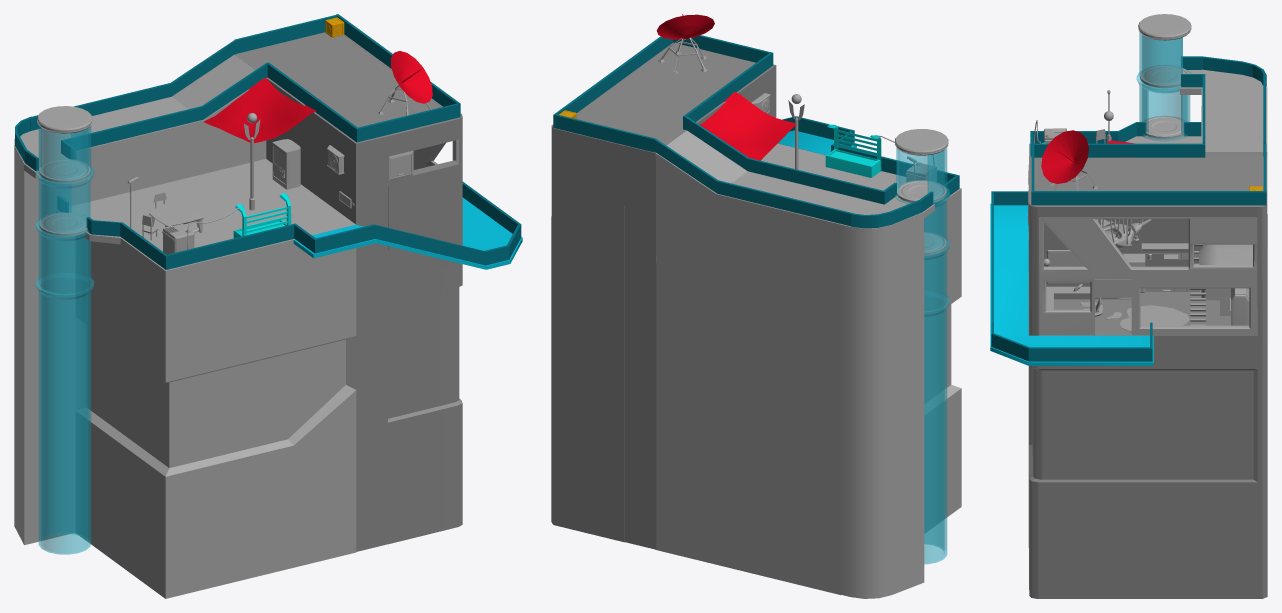
File: ScifiApartment.fbx
3 renders of one model, left to right at view 1: azimuth 30°, elevation 25°; view 2: azimuth 150°, elevation 25°; view 3: azimuth 270°, elevation 25°, orthographic. The views are drawn at different scales.
Parts seen in each view (by area): view 1: BackofmainBuilding, FrontofMainBuilding, teleporter_column1, Tarp_Thingy, workshop_walkway1, pCube88, pCube94, pCube187, pCube87, pCube93, pCube91, satellite_dish1 (+11 smaller); view 2: BackofmainBuilding, FrontofMainBuilding, teleporter_column1, Tarp_Thingy, pCube88, pCube187, pCube90, pCube92, pCube91, pCylinder7, satellite_dish1, pCube93 (+6 smaller); view 3: FrontofMainBuilding, pCube145, workshop_walkway1, BackofmainBuilding, teleporter_column1, pCube90, pCube91, satellite_dish1, pCube98, pCylinder7, pPlane1, pCube149 (+15 smaller).
Part boxes in pixels (bbox=[...]): BackofmainBuilding: bbox=[14, 55, 356, 598]; FrontofMainBuilding: bbox=[234, 32, 462, 551]; teleporter_column1: bbox=[35, 125, 94, 554]; Tarp_Thingy: bbox=[203, 77, 316, 143]; workshop_walkway1: bbox=[293, 197, 522, 269]; pCube88: bbox=[61, 63, 267, 153]; pCube94: bbox=[313, 224, 485, 265]; pCube187: bbox=[30, 40, 235, 130]; pCube87: bbox=[167, 223, 296, 269]; pCube93: bbox=[358, 103, 458, 141]; pCube91: bbox=[266, 62, 359, 142]; satellite_dish1: bbox=[391, 51, 432, 103]; BackofmainBuilding: bbox=[656, 130, 961, 598]; FrontofMainBuilding: bbox=[551, 42, 776, 549]; teleporter_column1: bbox=[895, 147, 949, 564]; Tarp_Thingy: bbox=[700, 91, 795, 160]; pCube88: bbox=[685, 116, 885, 204]; pCube187: bbox=[654, 139, 854, 226]; pCube90: bbox=[553, 36, 673, 128]; pCube92: bbox=[556, 114, 655, 152]; pCube91: bbox=[683, 52, 773, 129]; pCylinder7: bbox=[894, 129, 948, 155]; satellite_dish1: bbox=[656, 14, 714, 39]; pCube93: bbox=[673, 35, 770, 62]; FrontofMainBuilding: bbox=[1028, 155, 1267, 598]; pCube145: bbox=[1039, 217, 1257, 335]; workshop_walkway1: bbox=[990, 203, 1153, 365]; BackofmainBuilding: bbox=[1028, 69, 1267, 547]; teleporter_column1: bbox=[1136, 32, 1191, 141]; pCube90: bbox=[1031, 191, 1266, 205]; pCube91: bbox=[1031, 143, 1205, 157]; satellite_dish1: bbox=[1041, 130, 1088, 183]; pCube98: bbox=[1028, 347, 1152, 361]; pCylinder7: bbox=[1138, 14, 1191, 40]; pPlane1: bbox=[1199, 244, 1252, 264]; pCube149: bbox=[1119, 305, 1189, 331].
Bounding box in the file's own units: 84.39 × 90.76 × 51.27.
